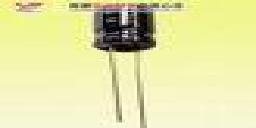Electrolytic-Capacitor: (89, 4, 159, 128)
